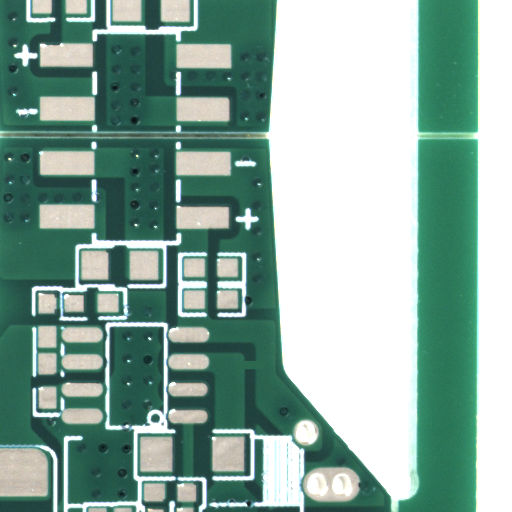Short: (249, 364, 270, 379)
